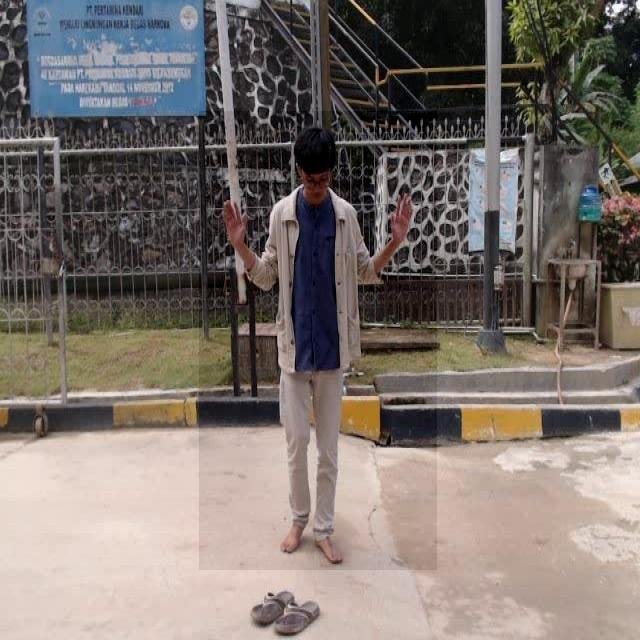Person: (204, 114, 434, 574)
bare-arms: (215, 194, 259, 252), (388, 187, 418, 251)
no-boot: (273, 512, 352, 567)
no-helmet: (292, 124, 341, 176)
no-vest: (244, 183, 387, 375)
